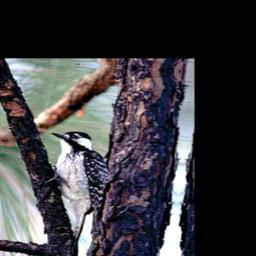Woodpecker: (36, 129, 115, 245)
